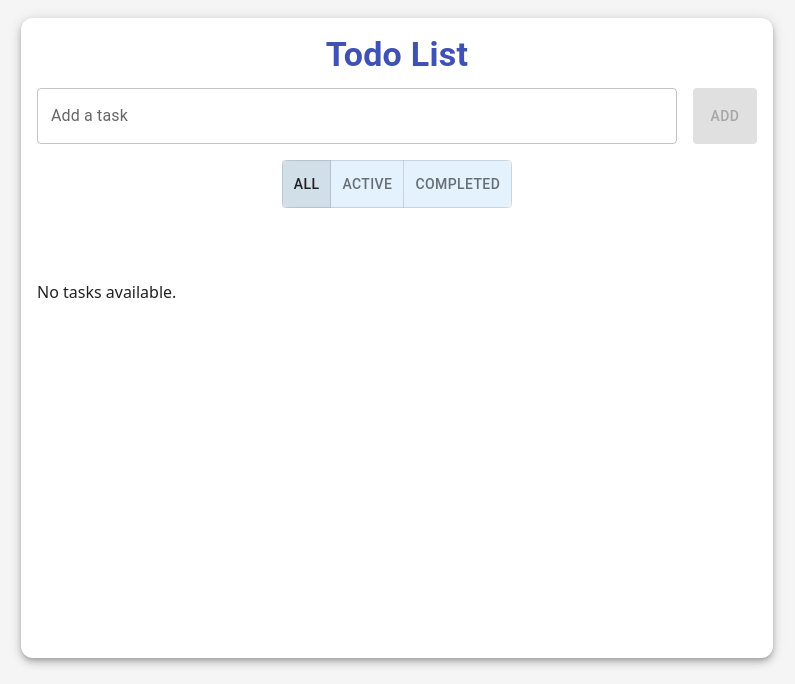
Scenario: App Component › filters tasks to show only completed tasks
In the field labelled "Add a task": coordinates (357, 116) [37, 88, 677, 144], type "Active Task"
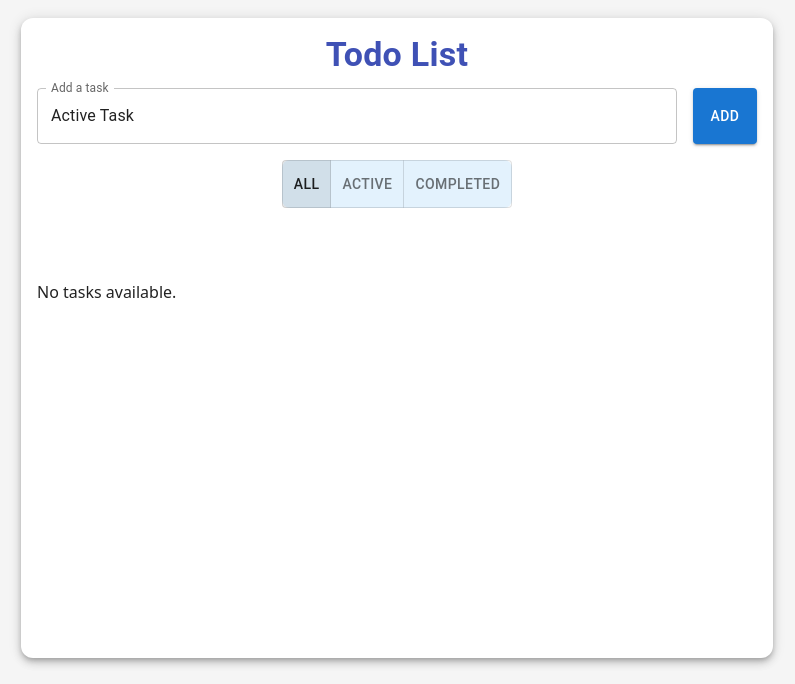
Click the button "Add": coordinates (725, 116) [693, 88, 757, 144]
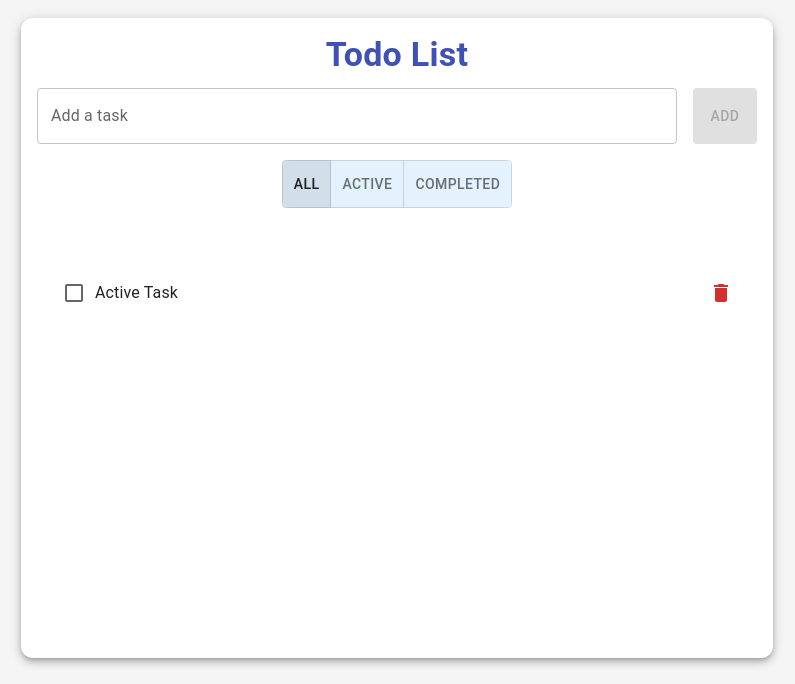
In the field labelled "Add a task": coordinates (357, 116) [37, 88, 677, 144], type "Completed Task"
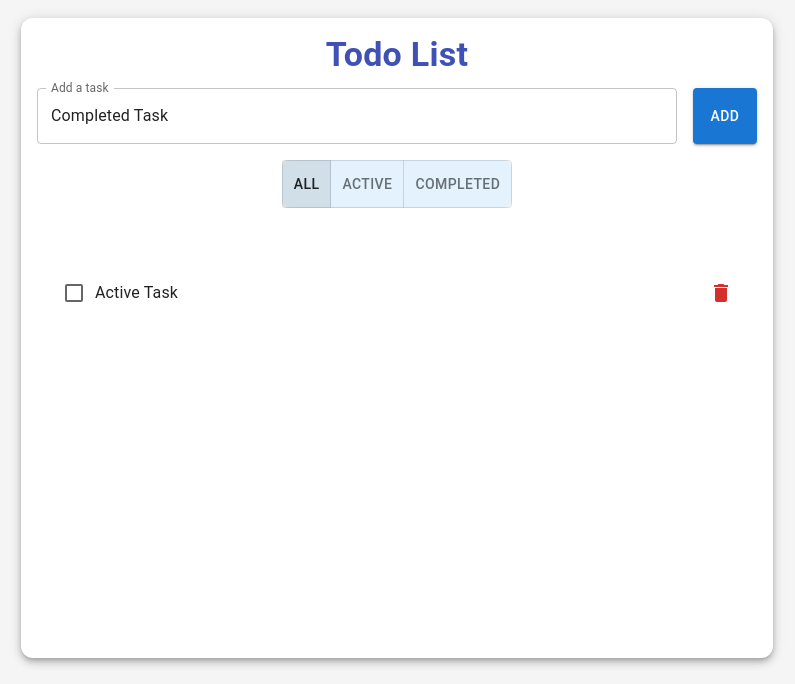
Click the button "Add": coordinates (725, 116) [693, 88, 757, 144]
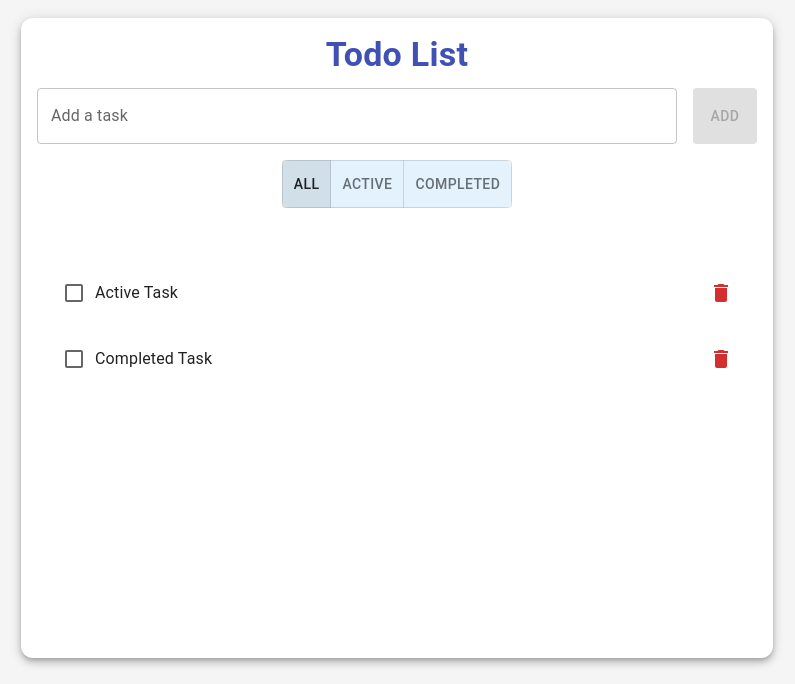
Click the checkbox named "Mark as complete": coordinates (74, 359) [62, 347, 86, 371]
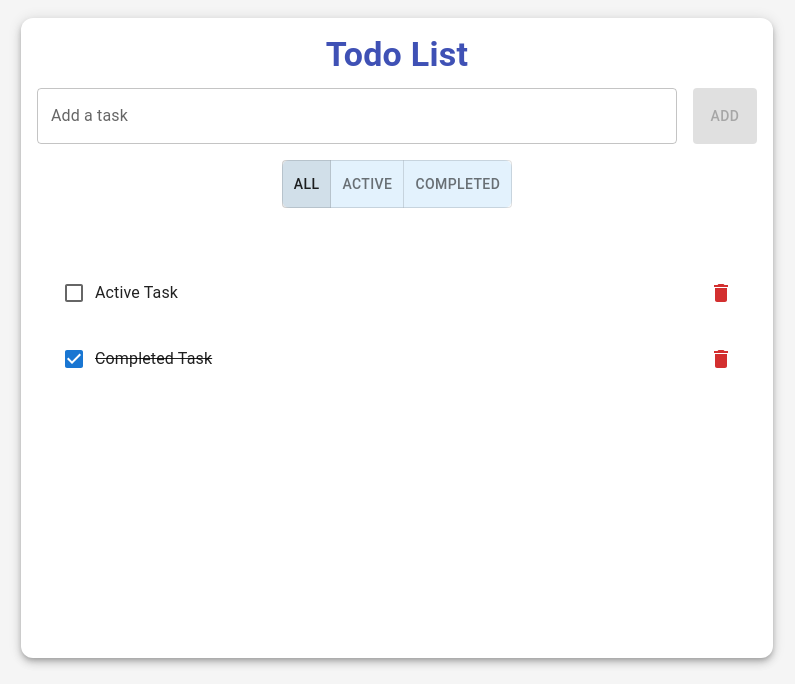
Click the button "Completed": coordinates (458, 184) [403, 160, 512, 208]
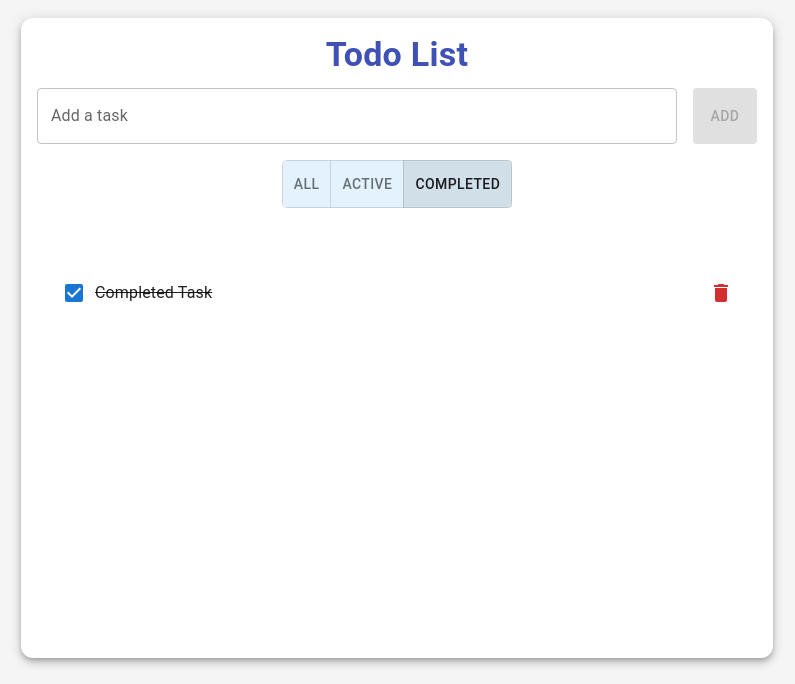
Expected: the text "Completed Task" is shown, [95, 283, 212, 302]
Expected: the text "Active Task" is gone
